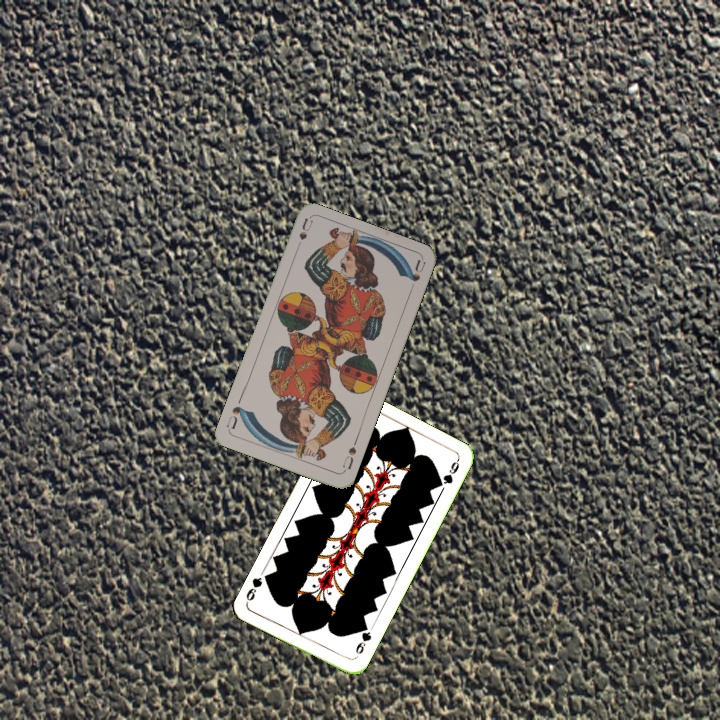G9: (350, 621, 374, 661)
SU: (291, 215, 315, 255), (338, 435, 360, 474)
